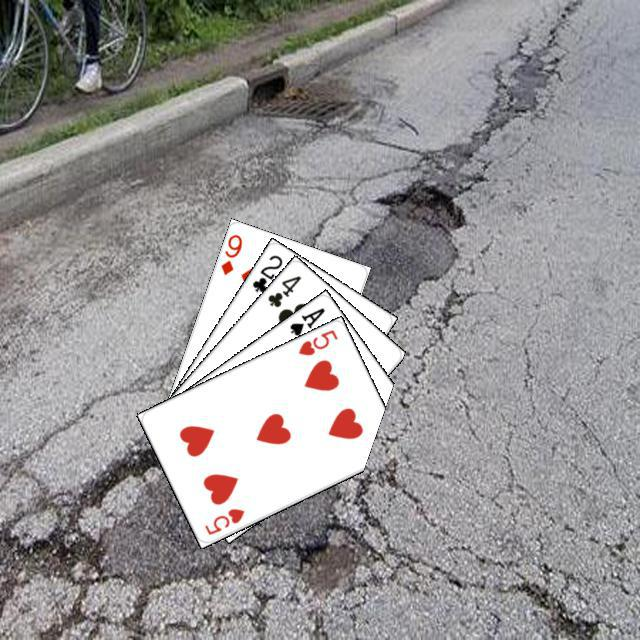2c: (247, 250, 284, 294)
4c: (263, 270, 303, 309)
5h: (200, 503, 246, 537), (293, 325, 339, 357)
9d: (216, 229, 244, 277)
As: (285, 302, 327, 338)
